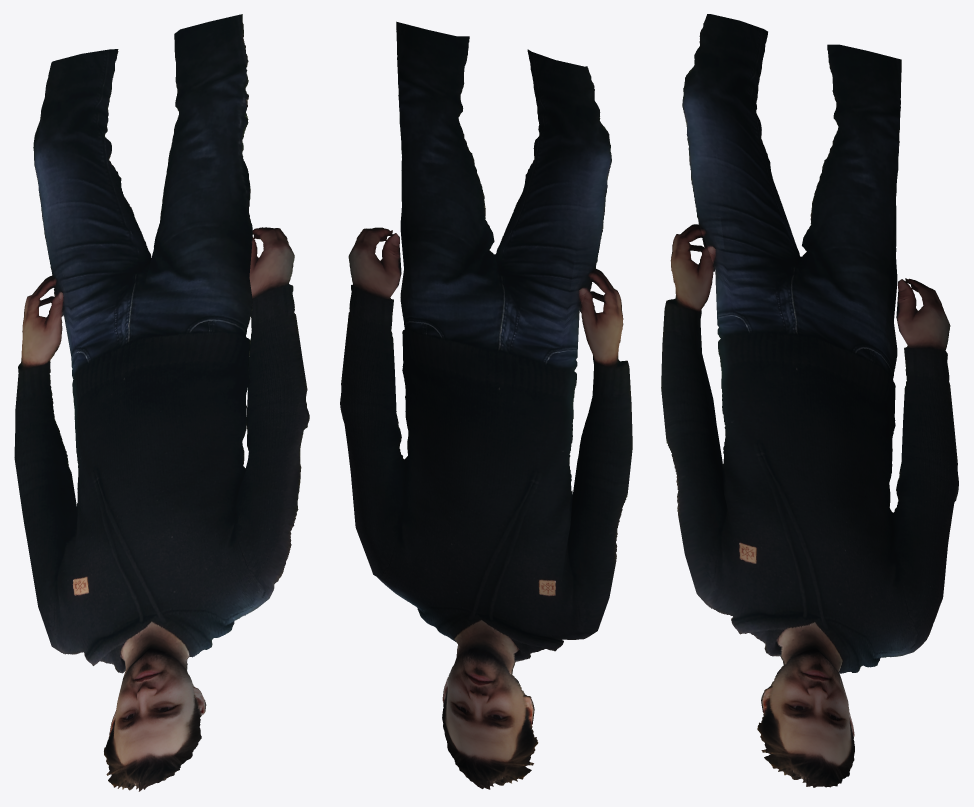
The picture shows the model from 3 angles, left to right: view 1: azimuth 30°, elevation 25°; view 2: azimuth 150°, elevation 25°; view 3: azimuth 330°, elevation 25°; orthographic projection. The views are drawn at different scales.
Parts seen in each view (by area): view 1: me; view 2: me; view 3: me.
Part boxes in pixels (x1=…): me: x1=14, y1=14, x2=309, y2=791; me: x1=340, y1=21, x2=632, y2=789; me: x1=661, y1=14, x2=958, y2=787.
Size of the model in its own units: 3.54 by 8.66 by 0.3847.
1 material, 1 textured.
